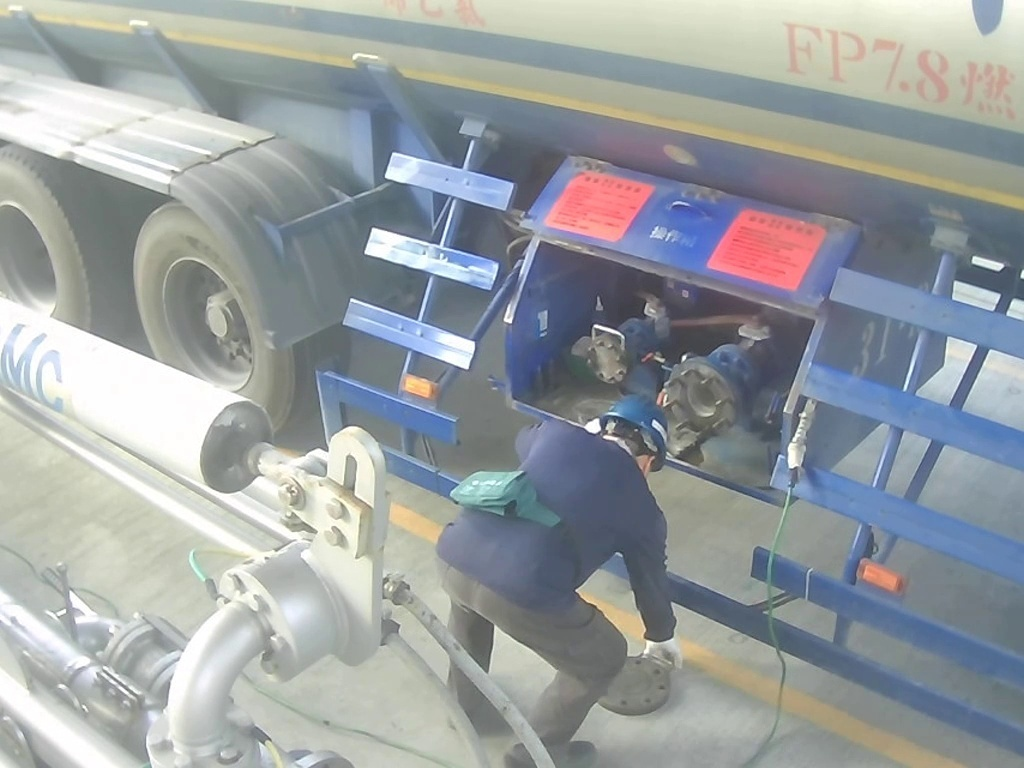helmet: (609, 398, 677, 481)
pack: (450, 468, 563, 530)
person: (424, 395, 692, 767)
